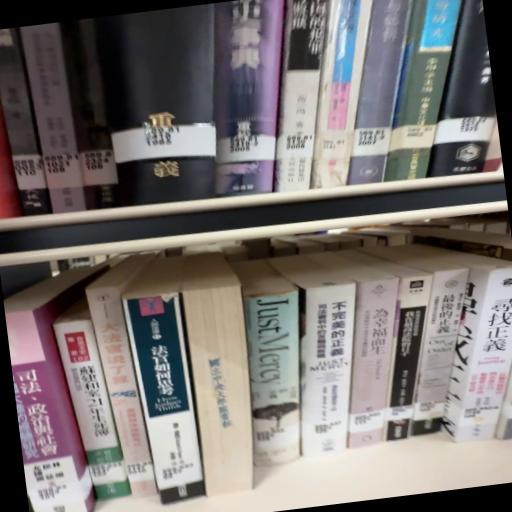backward: (182, 254, 254, 499)
book: (330, 276, 423, 448), (1, 28, 51, 225)
